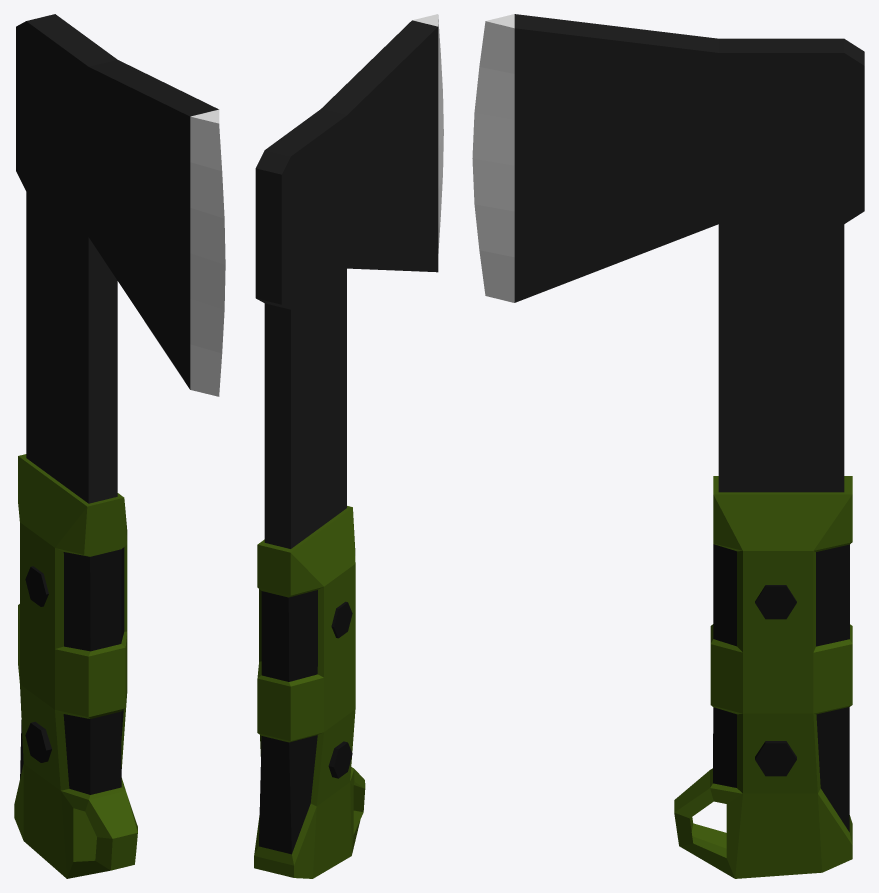
File: Hand Axe.glb
3 views of the same model, side by side, from view 1: azimuth 30°, elevation 25°; view 2: azimuth 150°, elevation 25°; view 3: azimuth 270°, elevation 25° (orthographic). The views are drawn at different scales.
Visible parts, largest first — view 1: Hand Axe; view 2: Hand Axe; view 3: Hand Axe.
Part boxes in pixels (x1=…): Hand Axe: x1=14, y1=14, x2=225, y2=878; Hand Axe: x1=254, y1=14, x2=443, y2=878; Hand Axe: x1=472, y1=14, x2=864, y2=878.
Bounding box in the file's own units: 0.0327 × 0.3371 × 0.1419.
